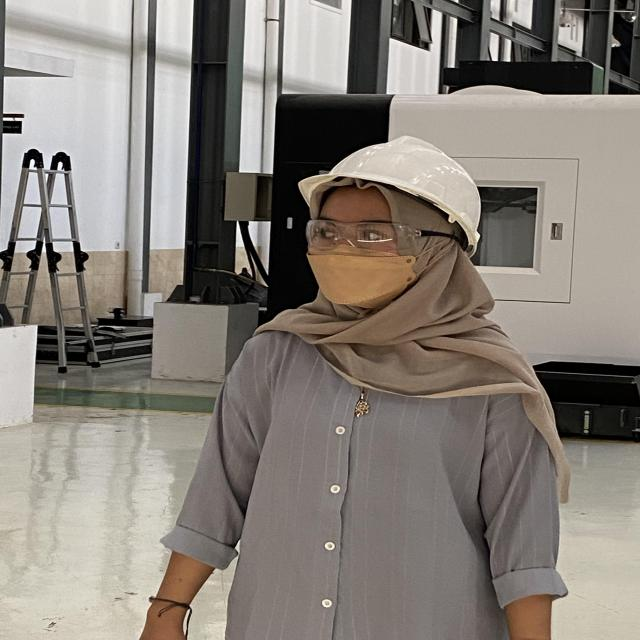face_mask: (300, 216, 410, 310)
glasses: (301, 215, 469, 255)
head_helmet: (293, 135, 489, 223)
person: (124, 120, 619, 640)
